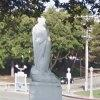Statue: (16, 8, 67, 81)
